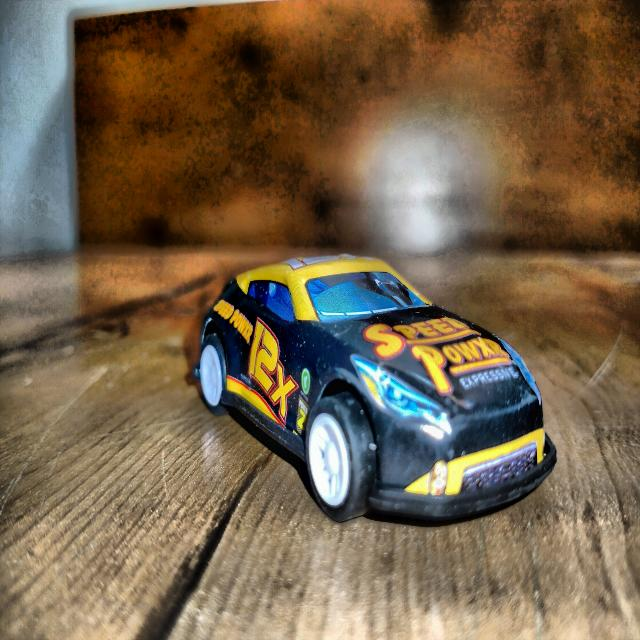Car: (194, 255, 555, 521)
